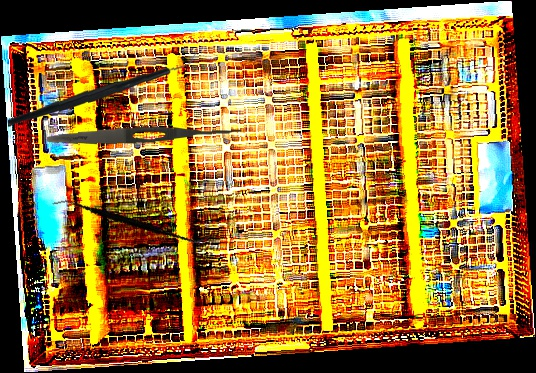Chopper: (7, 41, 198, 134)
Dressing Forceps: (46, 120, 244, 149)
Spatula Surgical: (51, 162, 211, 279)
